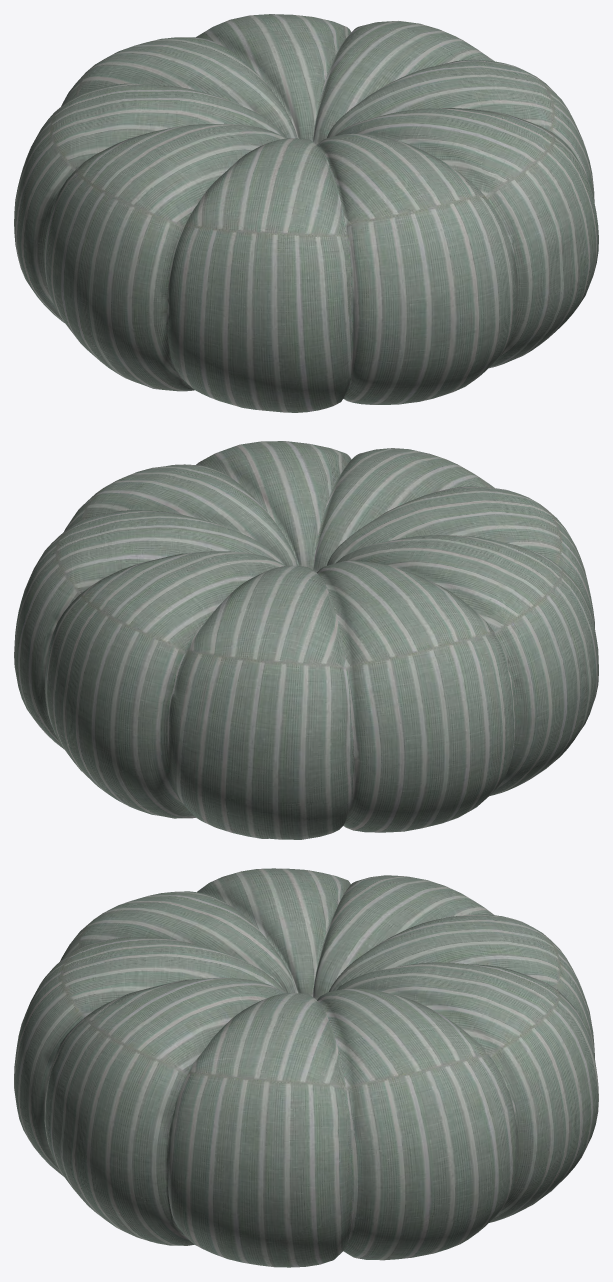
File: pouf_ribbed.glb
3 renders of one model, top to bottom at view 1: azimuth 30°, elevation 25°; view 2: azimuth 150°, elevation 25°; view 3: azimuth 270°, elevation 25°, orthographic.
Visible parts, largest first — view 1: defaultMaterial; view 2: defaultMaterial; view 3: defaultMaterial.
Part boxes in pixels (x1,y1,x2,y2): defaultMaterial: (14,14,598,412); defaultMaterial: (14,441,598,839); defaultMaterial: (14,868,598,1267).
Bounding box in the file's own units: 0.599 × 0.2617 × 0.6.
1 material, 1 textured.
